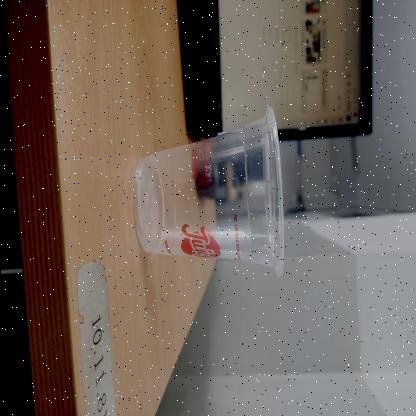Others: (134, 105, 286, 277)
